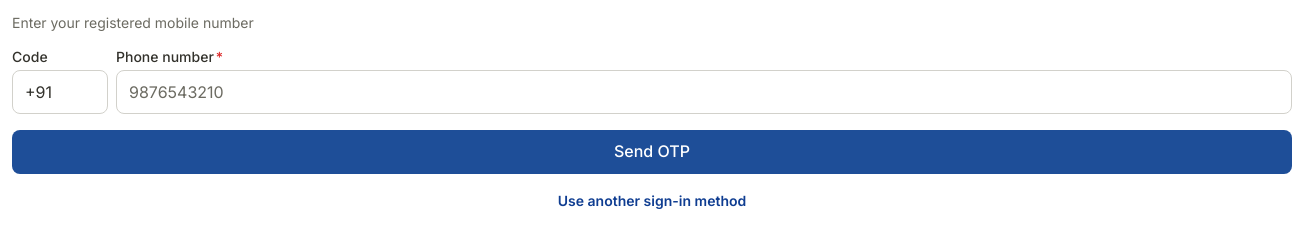
Test case: PhoneLoginFlow — enumeration safety › always advances to OTP step regardless of whether phone is registered
The width and height of the screenshot is (1304, 230).
// Any number — even one NOT pre-seeded in verifiedPhones
Type "1111111111" into the field labelled "Phone number*". click: (704, 92)
box: [116,70,1292,114]
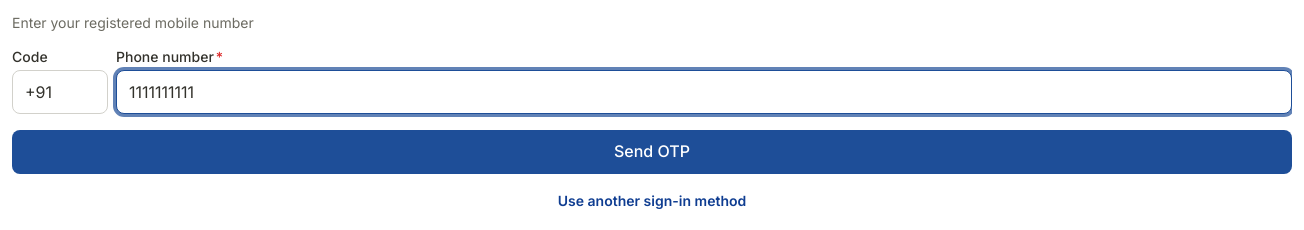
Click the button "Send OTP". click: click(652, 152)
box: [12,130,1292,174]
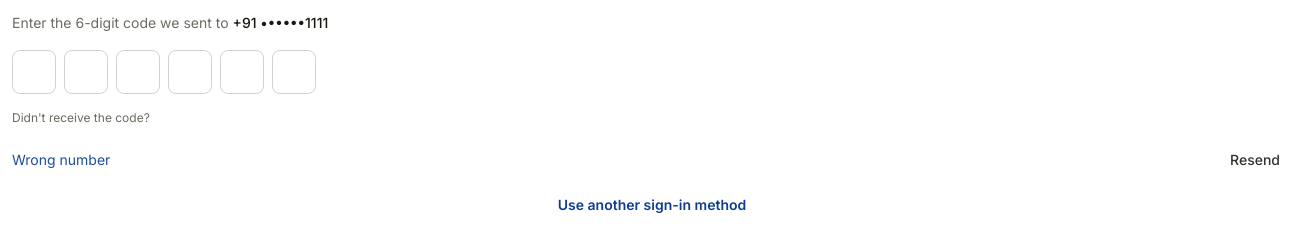
Expected: the text "Enter the 6-digit code we sent to +91 ••••••1111" is shown, [12,14,328,31]
